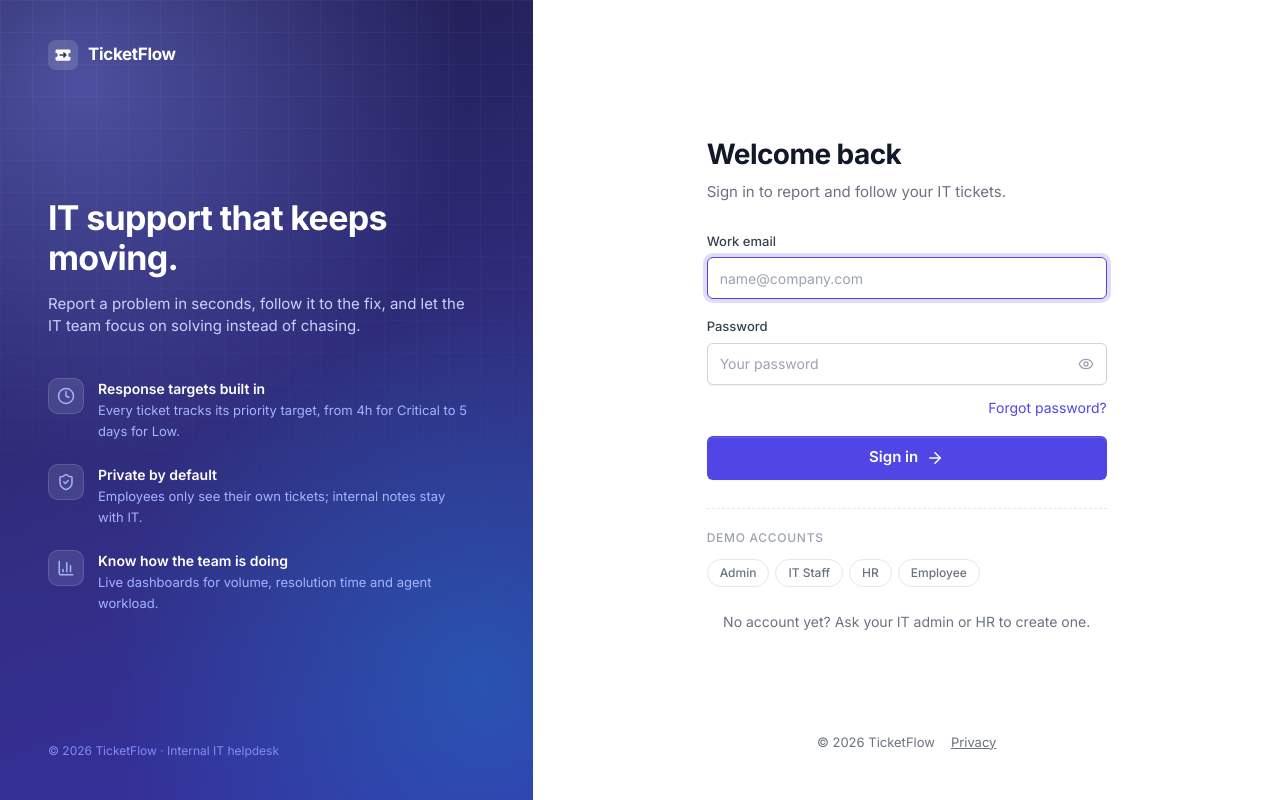
Test: Login › validation (before calling the API) › rejects a missing password
This screenshot has width=1280, height=800.
In the field labelled "Work email": [907, 278] box [707, 257, 1107, 299], type "employee1@ticketflow.local"
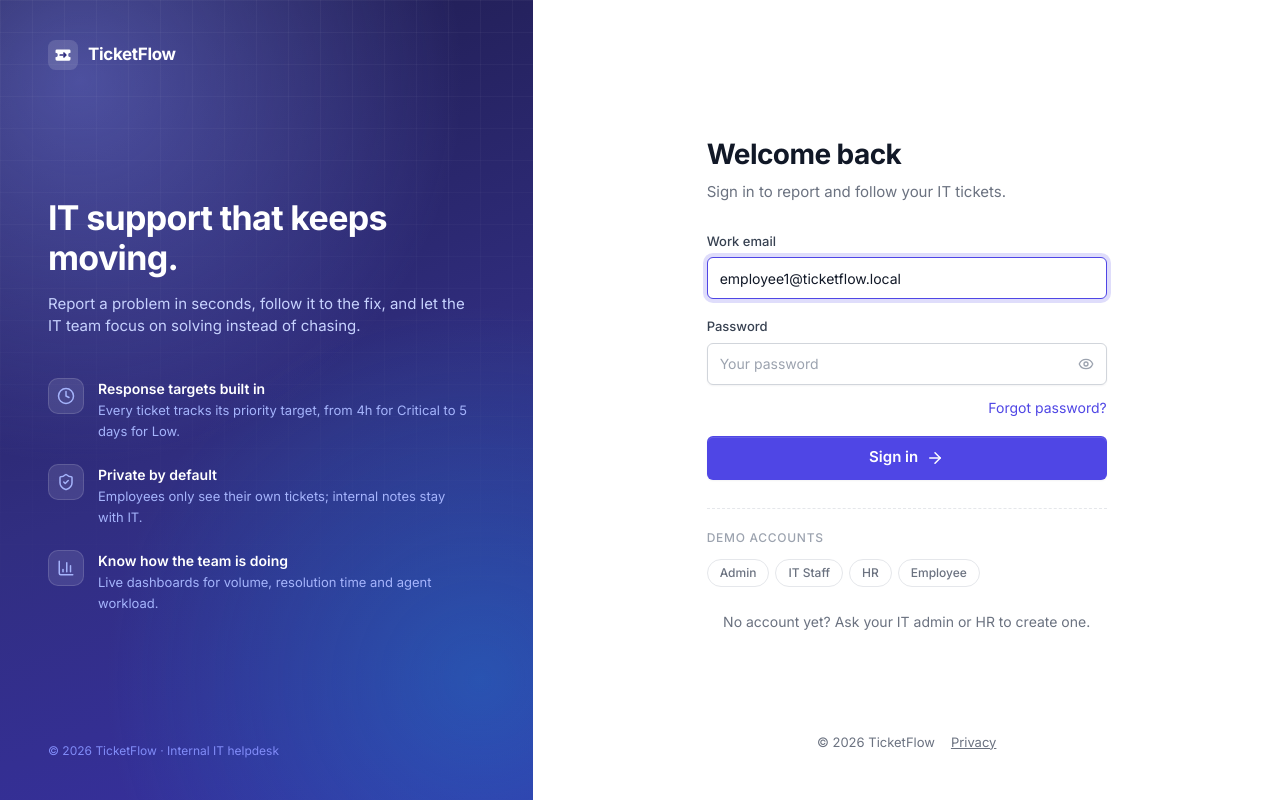
Click the button "Sign in": [907, 458] box [707, 436, 1107, 480]
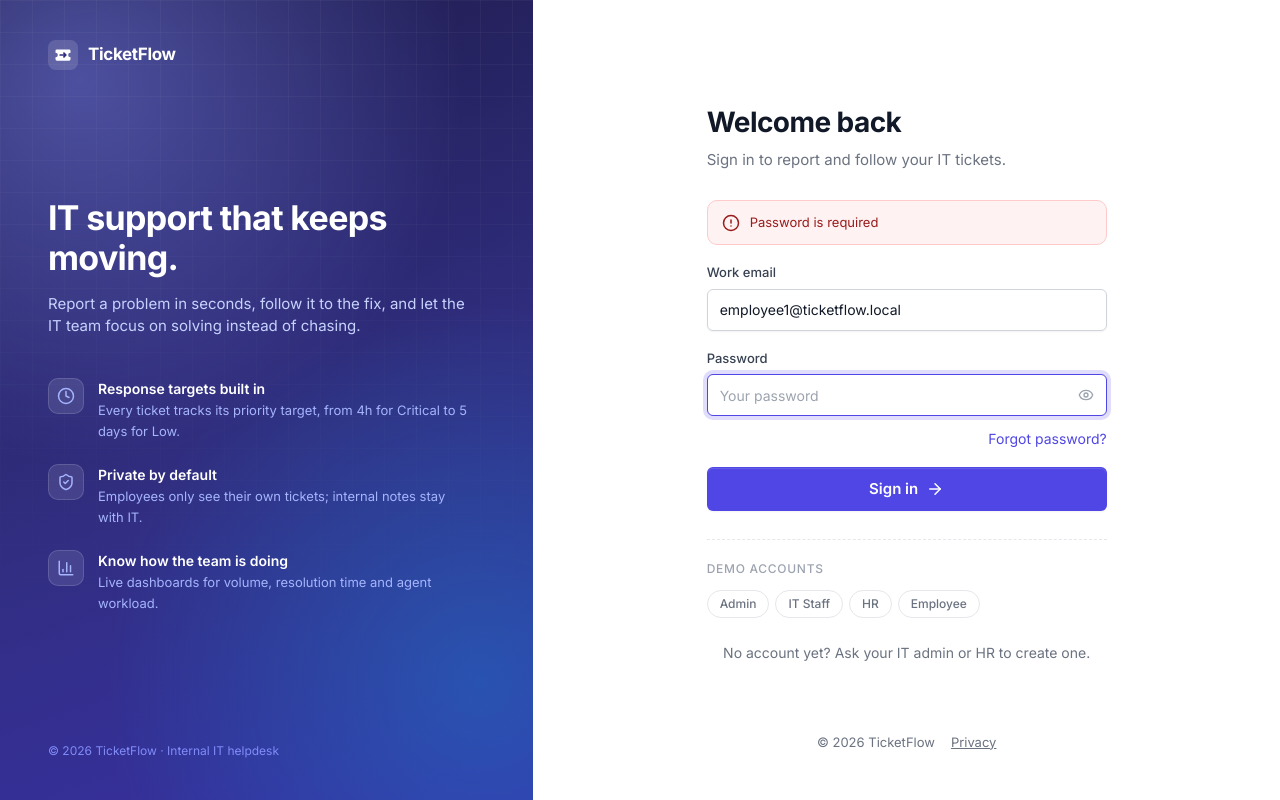
Now the message reads "Password is required", box [750, 214, 878, 230]
